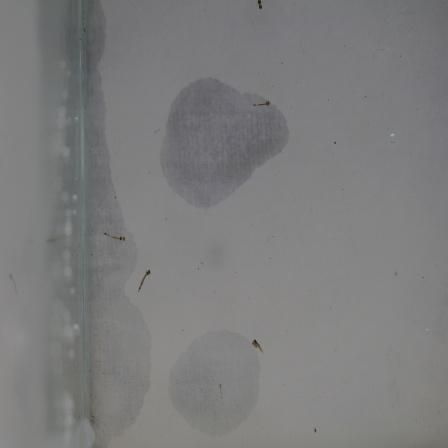Jentik-Nyamuk: (101, 227, 133, 247), (136, 265, 155, 298), (249, 94, 276, 113), (251, 335, 270, 361)
